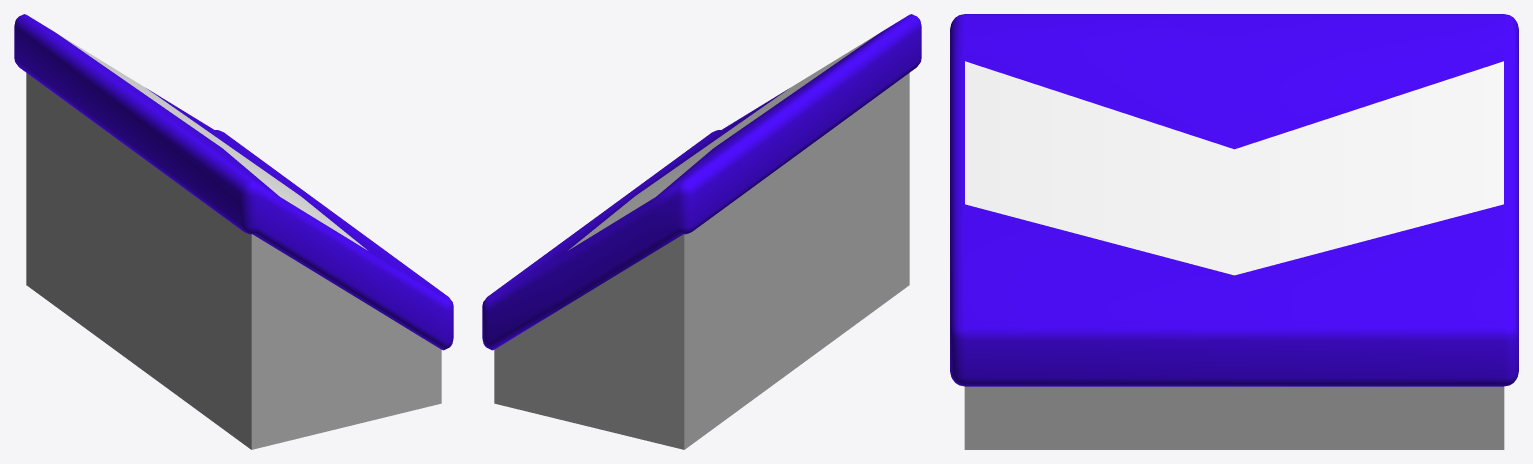
File: Base 1 Ramp Base To Mid Arrow Down White Purple.glb
3 views of the same model, side by side, from view 1: azimuth 30°, elevation 25°; view 2: azimuth 150°, elevation 25°; view 3: azimuth 270°, elevation 25° (orthographic). The views are drawn at different scales.
Visible parts, largest first — view 1: Base_1_Ramp_Base_To_Mid_Arrow_Down_White_; view 2: Base_1_Ramp_Base_To_Mid_Arrow_Down_White_; view 3: Base_1_Ramp_Base_To_Mid_Arrow_Down_White_.
Part boxes in pixels (<box>): Base_1_Ramp_Base_To_Mid_Arrow_Down_White_: <box>14,14,453,449</box>; Base_1_Ramp_Base_To_Mid_Arrow_Down_White_: <box>482,14,921,449</box>; Base_1_Ramp_Base_To_Mid_Arrow_Down_White_: <box>950,14,1518,449</box>.
Size of the model in its own units: 4.1 by 5.01 by 7.98.
